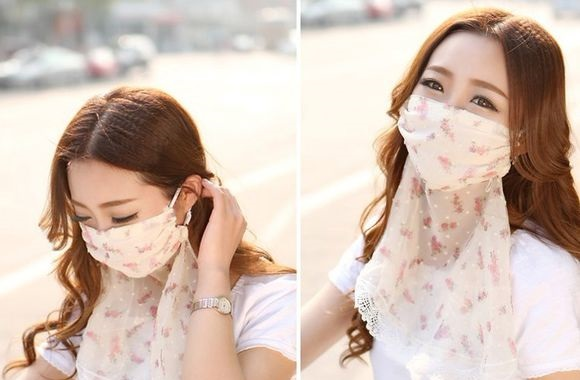face_mask: (399, 35, 521, 170), (63, 162, 176, 274)
